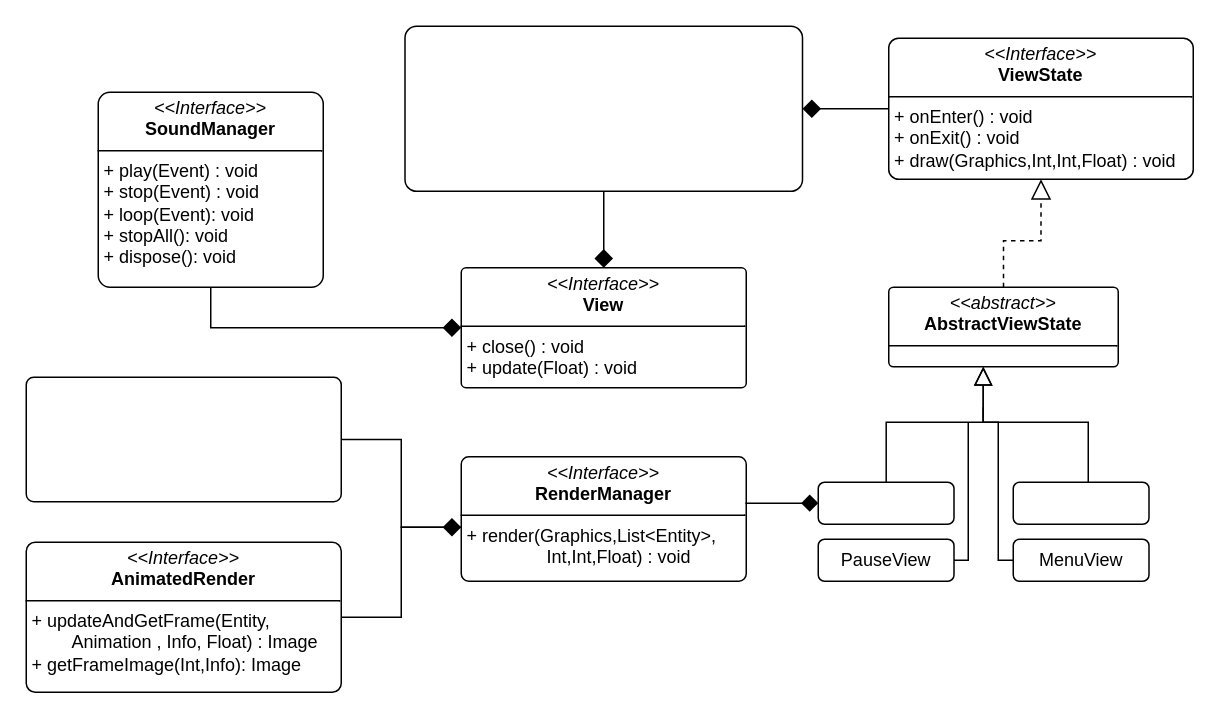
Some shapes in this 1220 by 719 pixel diagram are drawn without their labels. Each missing label, with the centre of its shape:
"<<Interface>> EntityRender + draw(Graphics,Entity, Int,Int,Float) : void" goes at (183,439).
"<<Interface>> Panel + update(Float) : void + setViewState(ViewState) : void" goes at (603,108).
"GameOverView" goes at (1080,502).
"InGameView" goes at (885,502).
